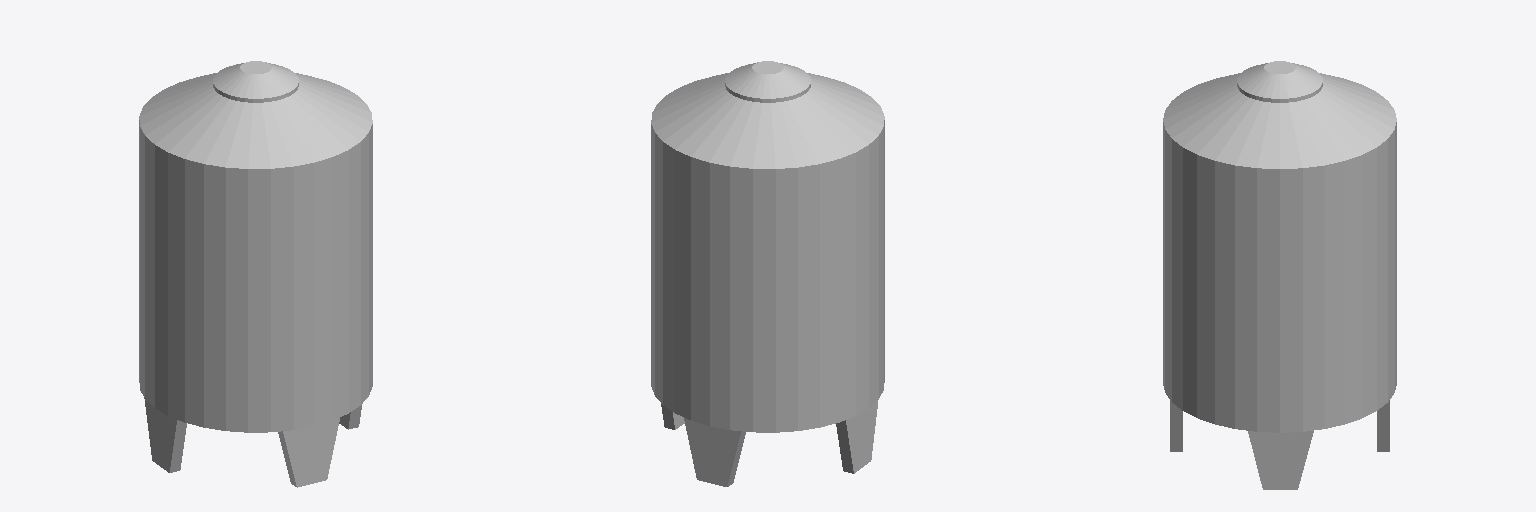
Rendered from cuve.obj.
3 views of the same model, side by side, from view 1: azimuth 30°, elevation 25°; view 2: azimuth 150°, elevation 25°; view 3: azimuth 270°, elevation 25° (orthographic).
Parts seen in each view (by area): view 1: Cube.10108_Cube.11538; view 2: Cube.10108_Cube.11538; view 3: Cube.10108_Cube.11538.
Part boxes in pixels (bbox=[...]): Cube.10108_Cube.11538: bbox=[139, 61, 372, 487]; Cube.10108_Cube.11538: bbox=[651, 61, 884, 486]; Cube.10108_Cube.11538: bbox=[1163, 61, 1396, 489].
Size of the model in its own units: 0.8397 by 1.49 by 0.8397.